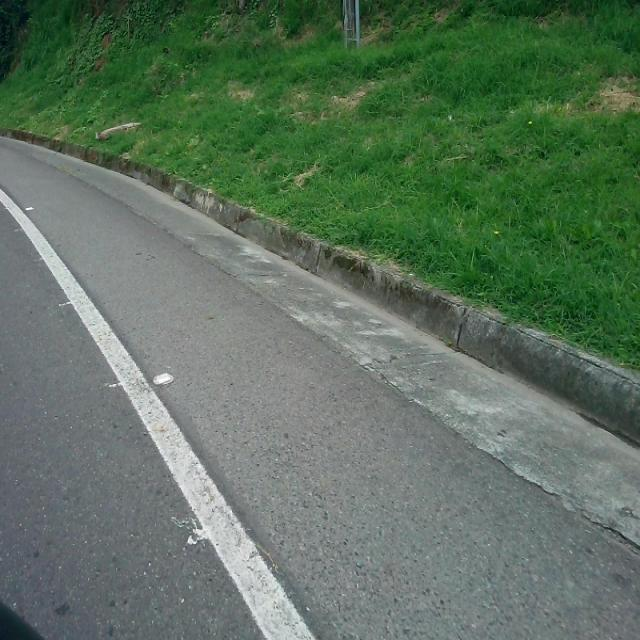DITCH: (1, 131, 639, 638), (2, 130, 636, 638)
